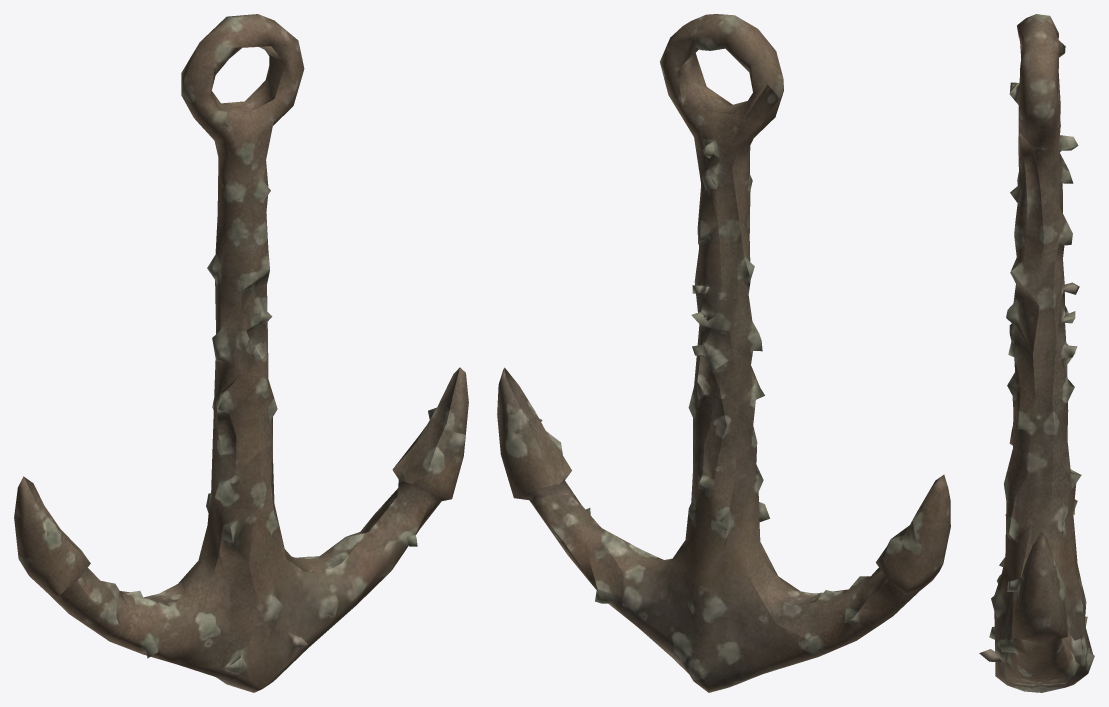
Rendered from wreck-anchor.glb.
3 renders of one model, left to right at view 1: azimuth 30°, elevation 25°; view 2: azimuth 150°, elevation 25°; view 3: azimuth 270°, elevation 25°, orthographic.
Visible parts, largest first — view 1: Mesh_0.001; view 2: Mesh_0.001; view 3: Mesh_0.001.
Boxes of the visible parts, x1,y1,x2,y2 form: Mesh_0.001: (14, 14, 468, 692); Mesh_0.001: (497, 14, 950, 692); Mesh_0.001: (979, 14, 1094, 692).
Size of the model in its own units: 1.69 by 2.4 by 0.3773.
Materials: 1 (1 with a texture image).
